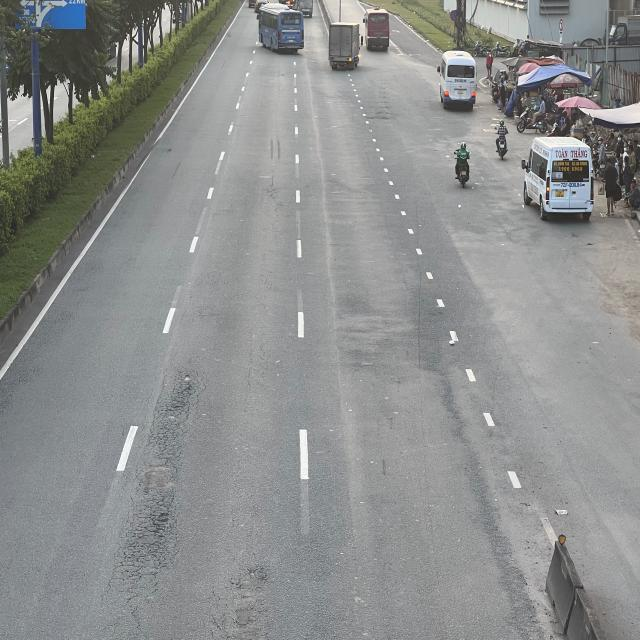coach: (256, 3, 304, 55), (437, 51, 477, 112), (365, 9, 392, 51)
truck: (328, 22, 362, 68)
van: (522, 133, 594, 220)
